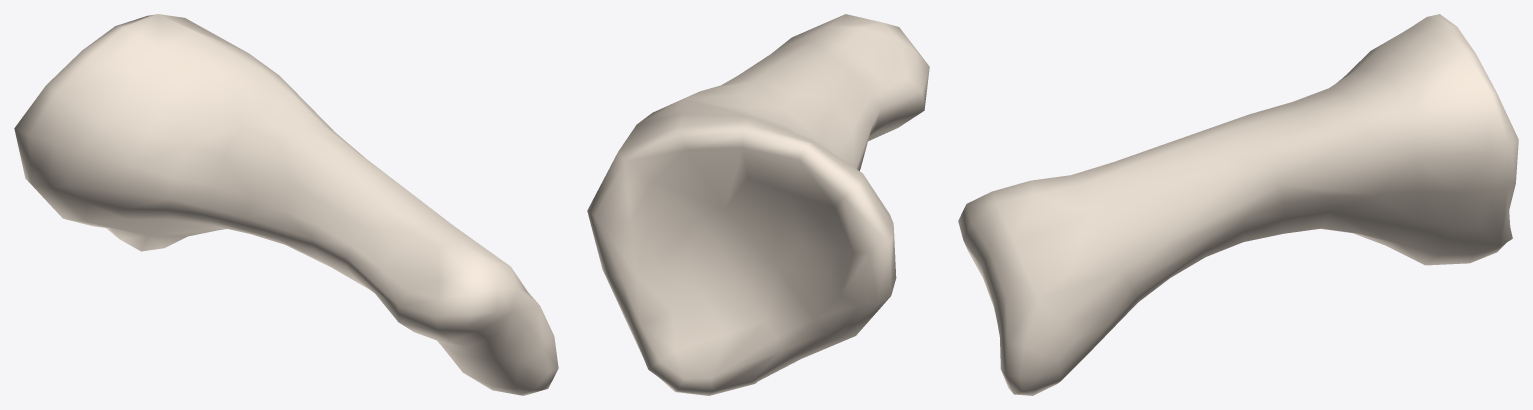
The model's file is left_toe_4_proximal.glb.
The picture shows the model from 3 angles, left to right: view 1: azimuth 30°, elevation 25°; view 2: azimuth 150°, elevation 25°; view 3: azimuth 270°, elevation 25°; orthographic projection. The views are drawn at different scales.
Visible parts, largest first — view 1: Proximal phalanx of fourth finger of foot.r; view 2: Proximal phalanx of fourth finger of foot.r; view 3: Proximal phalanx of fourth finger of foot.r.
Boxes of the visible parts, bbox=[...] form: Proximal phalanx of fourth finger of foot.r: bbox=[14, 14, 558, 395]; Proximal phalanx of fourth finger of foot.r: bbox=[587, 14, 929, 395]; Proximal phalanx of fourth finger of foot.r: bbox=[958, 14, 1518, 395].
Bounding box in the file's own units: 0.0179 × 0.0136 × 0.0256.
